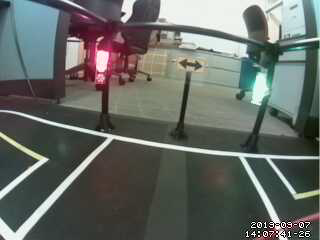Left_Right_sign: (175, 54, 217, 75)
Traffic_light_green: (251, 66, 271, 114)
Traffic_light_red: (96, 47, 114, 92)
